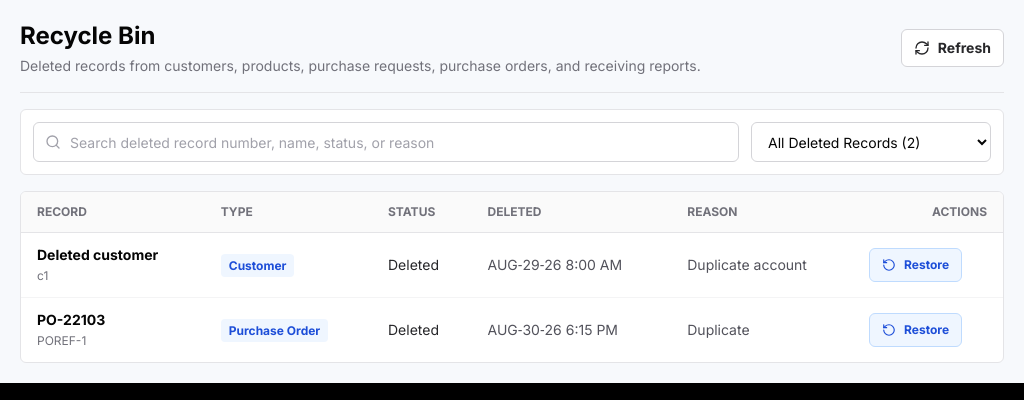
filters deleted records by type
Check: the text "Deleted customer" is shown, box [37,246,158,263]
Select "Purchase Orders (1)" in the dropdown named "Filter deleted record type". click: [871, 142]
box: [751,122,991,162]
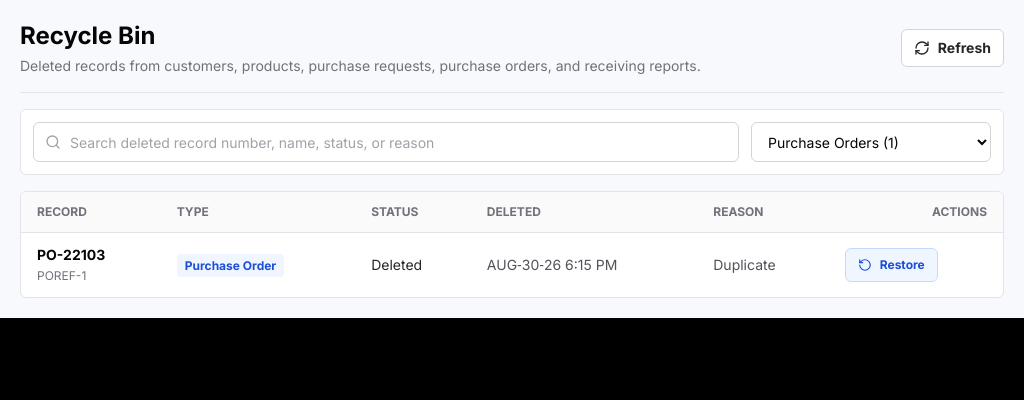
Check: the text "PO-22103" is shown, box [37,246,105,263]
Check: the text "Deleted customer" is gone
